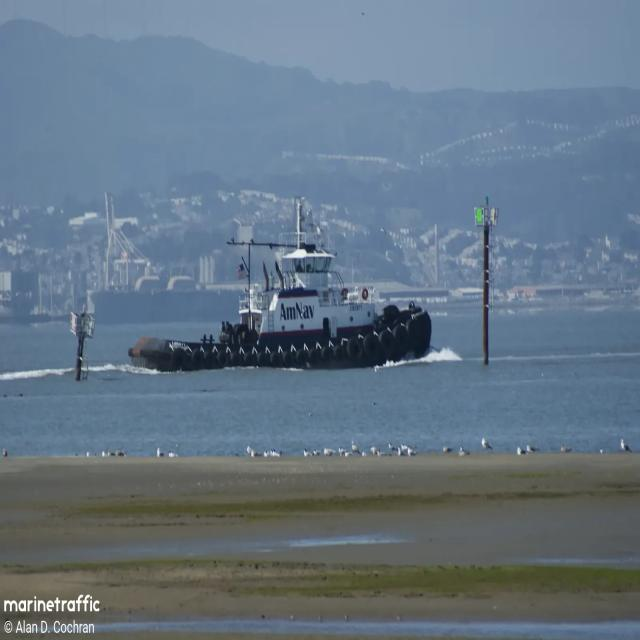Tug: (128, 200, 432, 371)
